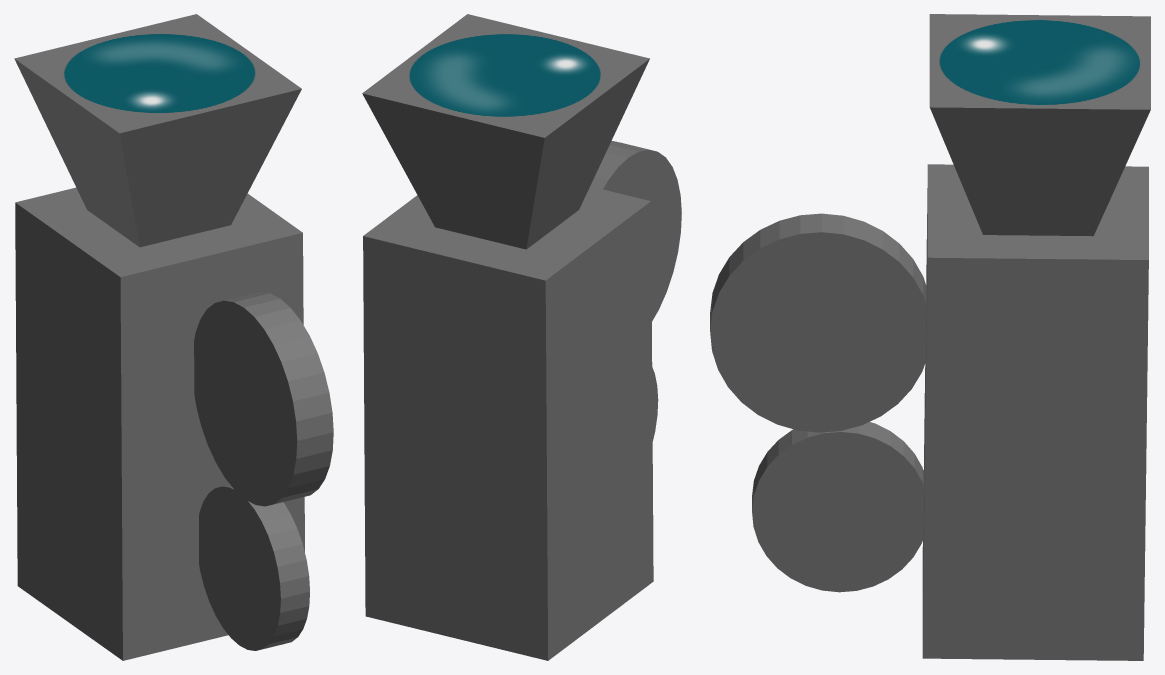
Rendered from camera.gltf.
3 views of the same model, side by side, from view 1: azimuth 30°, elevation 25°; view 2: azimuth 150°, elevation 25°; view 3: azimuth 270°, elevation 25° (orthographic). The views are drawn at different scales.
Parts seen in each view (by area): view 1: Cylinder.001; view 2: Cylinder.001; view 3: Cylinder.001.
Part boxes in pixels (bbox=[...]): Cylinder.001: bbox=[14, 14, 333, 660]; Cylinder.001: bbox=[362, 14, 681, 660]; Cylinder.001: bbox=[710, 14, 1150, 660].
Bounding box in the file's own units: 1 × 2.76 × 1.99.
Materials: 1 (1 with a texture image).
